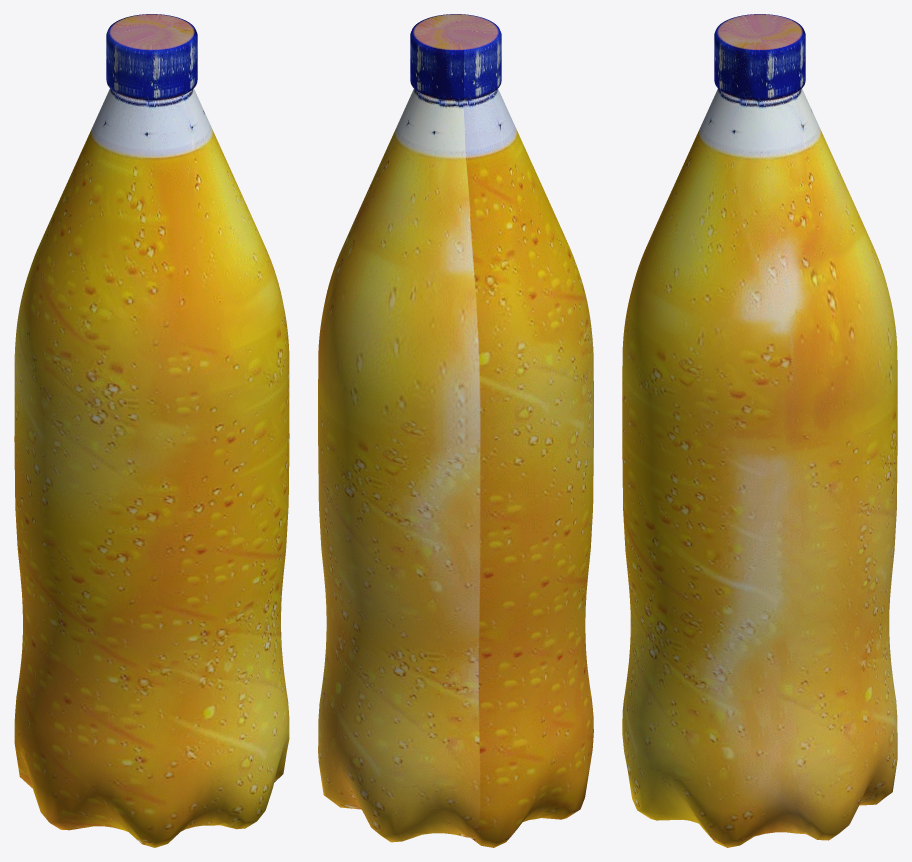
Rendered from fendaczw.FBX.
3 renders of one model, left to right at view 1: azimuth 30°, elevation 25°; view 2: azimuth 150°, elevation 25°; view 3: azimuth 270°, elevation 25°, orthographic.
Visible parts, largest first — view 1: Circle002; view 2: Circle002; view 3: Circle002.
Boxes of the visible parts, x1,y1,x2,y2 form: Circle002: (14,14,289,847); Circle002: (318,14,593,847); Circle002: (622,14,897,847).
Size of the model in its own units: 0.0643 by 0.198 by 0.0643.
